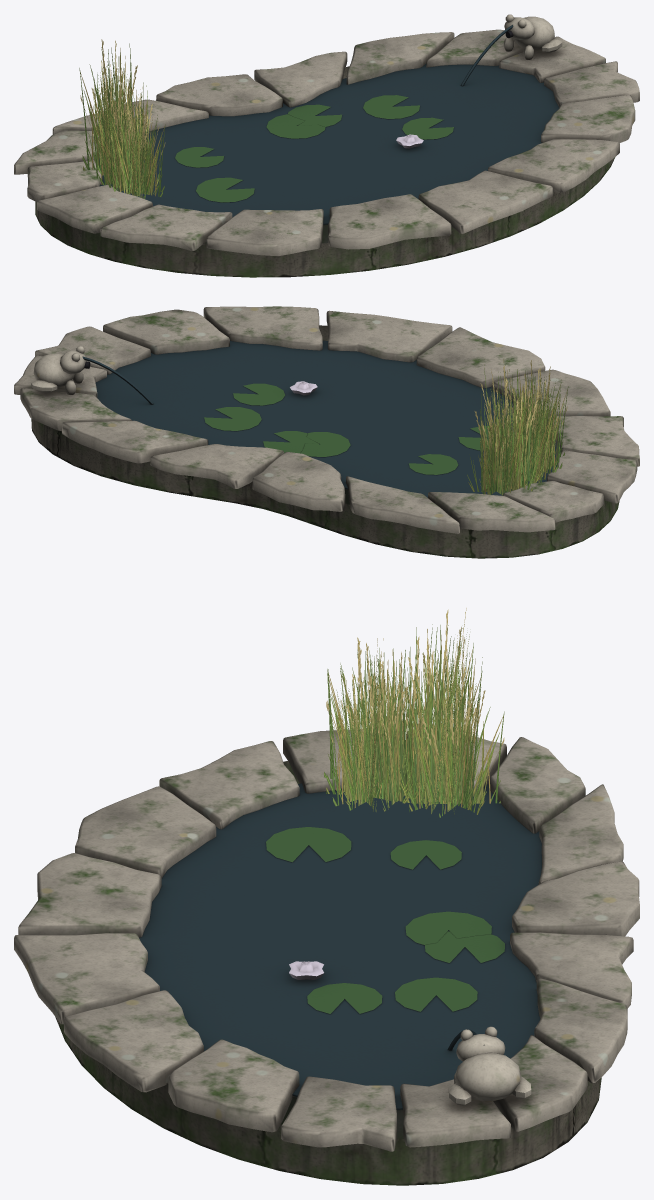
Rendered from KoiPond.fbx.
3 views of the same model, one above another, from view 1: azimuth 30°, elevation 25°; view 2: azimuth 150°, elevation 25°; view 3: azimuth 270°, elevation 25° (orthographic). The views are drawn at different scales.
Visible parts, largest first — view 1: KoiPond_Main, KoiPond_Glass, KoiPond_Leaves; view 2: KoiPond_Main, KoiPond_Glass, KoiPond_Leaves; view 3: KoiPond_Main, KoiPond_Glass, KoiPond_Leaves.
Boxes of the visible parts, x1=… form: KoiPond_Main: x1=14, y1=14, x2=639, y2=277; KoiPond_Glass: x1=99, y1=25, x2=559, y2=224; KoiPond_Leaves: x1=79, y1=39, x2=165, y2=198; KoiPond_Main: x1=14, y1=306, x2=639, y2=558; KoiPond_Glass: x1=82, y1=340, x2=560, y2=497; KoiPond_Leaves: x1=467, y1=359, x2=568, y2=495; KoiPond_Main: x1=14, y1=729, x2=639, y2=1185; KoiPond_Glass: x1=139, y1=783, x2=541, y2=1109; KoiPond_Leaves: x1=324, y1=608, x2=504, y2=817.
Bounding box in the file's own units: 1327 × 373 × 847.
